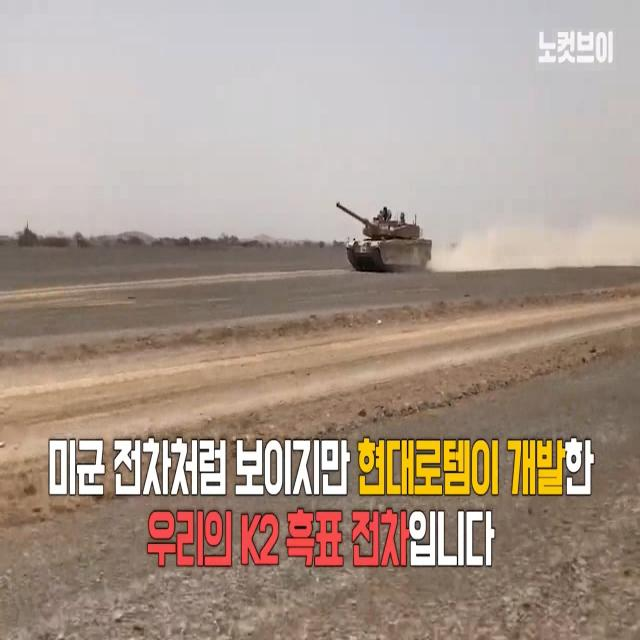korea tank: (336, 199, 434, 274)
